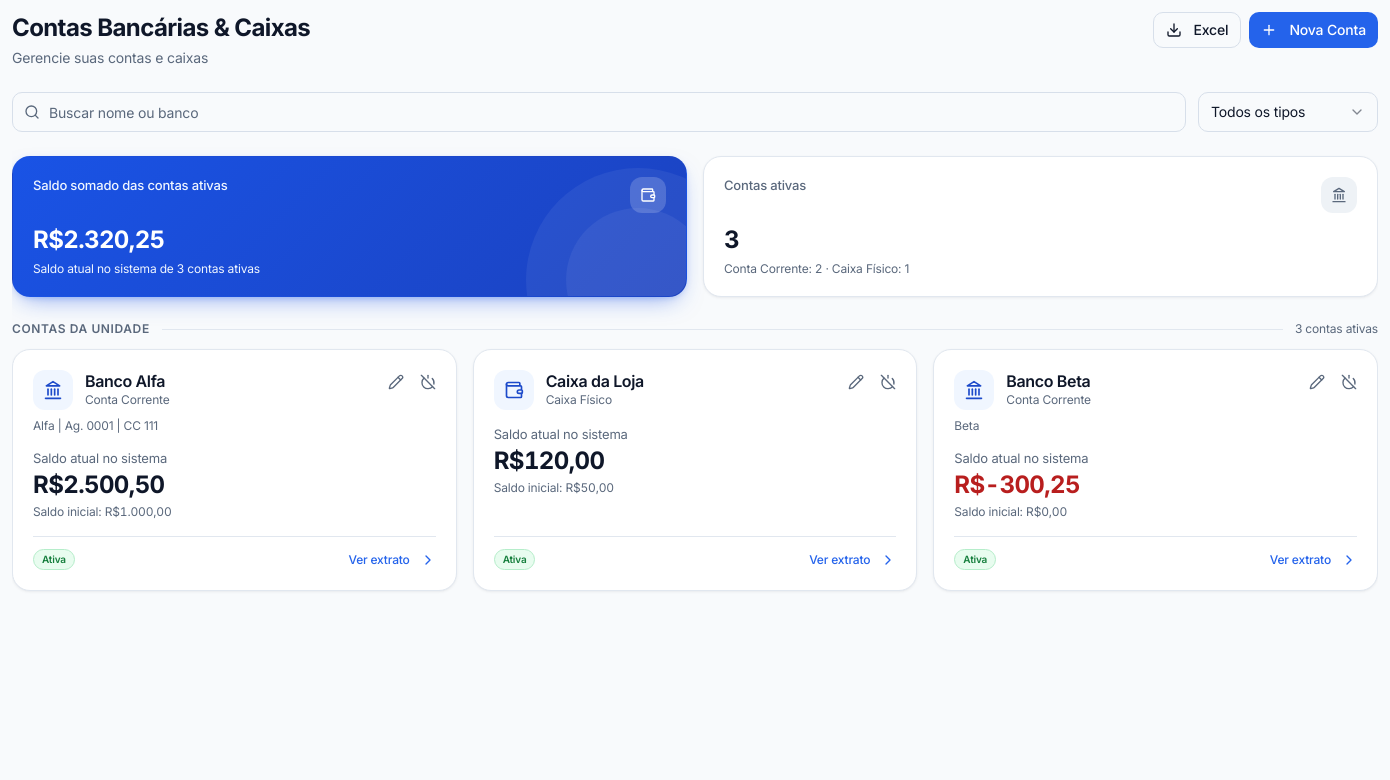
Test: Contas Bancárias (V2) › destaque soma TODAS as contas ativas, mesmo com busca; saldo negativo em vermelho com sinal
Expected: the text "Saldo somado das contas ativas" is shown, top-left (33, 177), bottom-right (228, 193)
Expected: the text "Saldo atual no sistema de 3 contas ativas" is shown, top-left (33, 261), bottom-right (260, 276)
Type "alfa" into the field named "Buscar conta por nome ou banco" at (599,112), box top-left (12, 92), bottom-right (1186, 132)
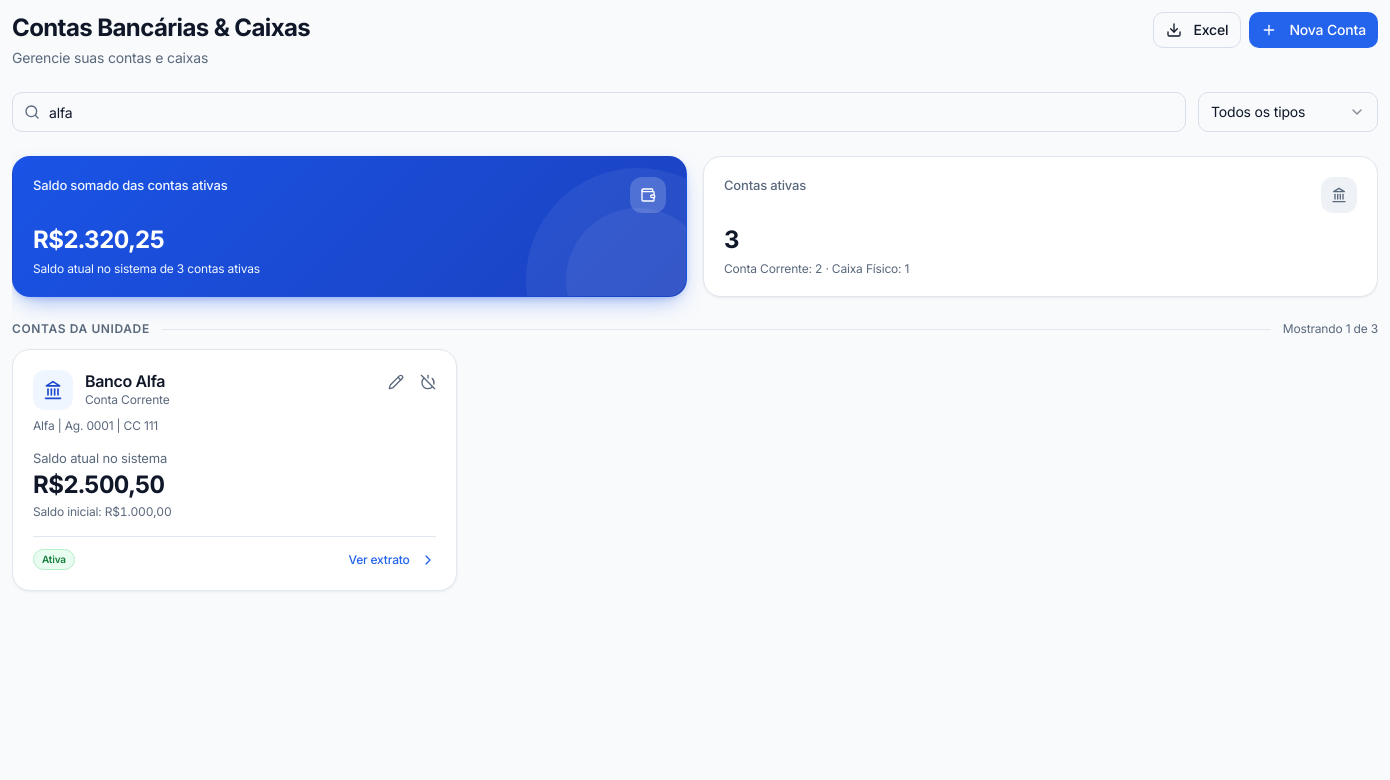
Expected: the heading "Banco Beta" is gone
Expected: the text "Mostrando 1 de 3" is shown, top-left (1283, 321), bottom-right (1378, 337)
